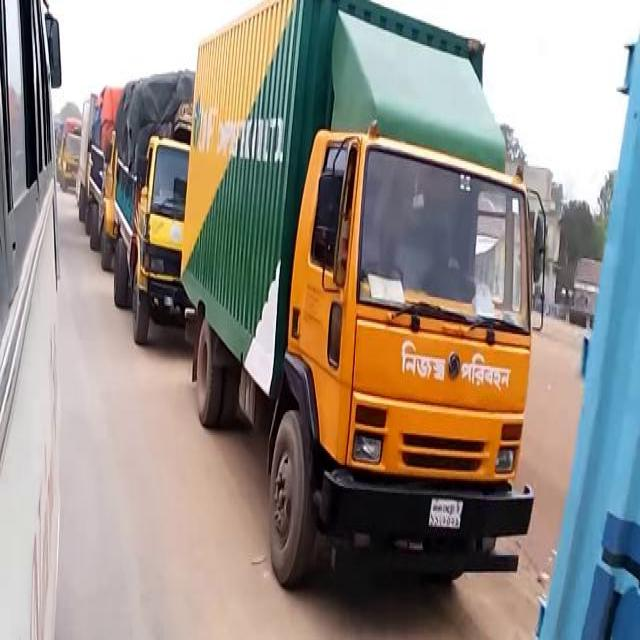vehicle: (177, 2, 534, 590), (3, 2, 64, 636), (112, 67, 188, 354), (87, 87, 108, 246), (61, 111, 82, 197)
